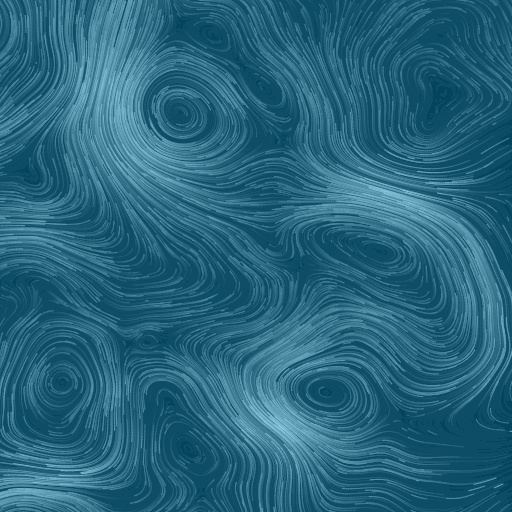eddy: (5, 320, 113, 469), (393, 46, 489, 153), (281, 355, 383, 437), (138, 69, 229, 154), (334, 227, 418, 278), (164, 425, 222, 481), (183, 18, 237, 57)
